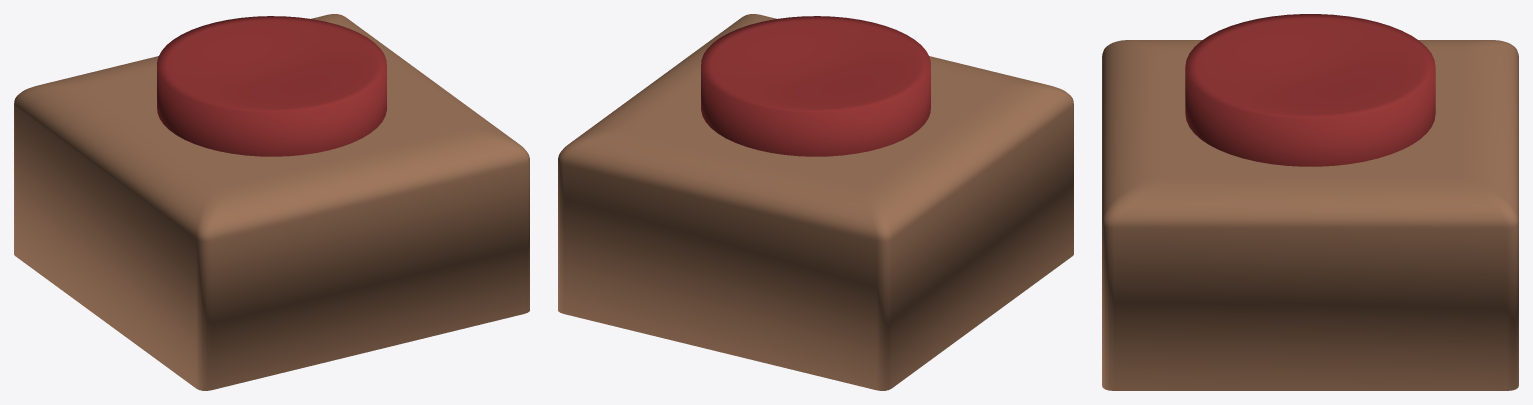
File: Button.fbx
3 views of the same model, side by side, from view 1: azimuth 30°, elevation 25°; view 2: azimuth 150°, elevation 25°; view 3: azimuth 270°, elevation 25° (orthographic). The views are drawn at different scales.
Parts seen in each view (by area): view 1: Small Panel, Button; view 2: Small Panel, Button; view 3: Small Panel, Button.
Boxes of the visible parts, x1,y1,x2,y2 form: Small Panel: (14, 14, 529, 390); Button: (157, 16, 386, 156); Small Panel: (558, 14, 1073, 390); Button: (701, 16, 930, 156); Small Panel: (1102, 40, 1518, 390); Button: (1185, 14, 1435, 166).
Bounding box in the file's own units: 200 × 125 × 200.
